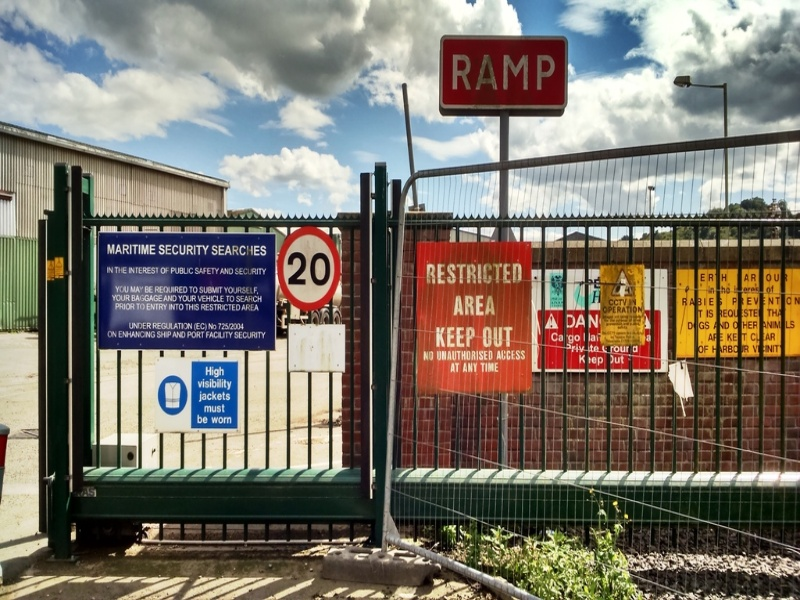speed_limit_20: (274, 226, 345, 311)
